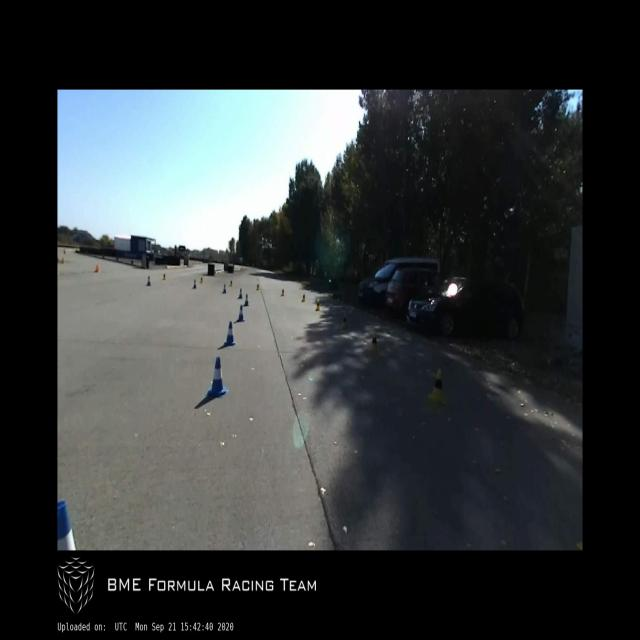blue_cone: (57, 501, 77, 551), (207, 357, 227, 398), (224, 321, 235, 346), (237, 305, 245, 322), (244, 294, 249, 306), (238, 289, 242, 299), (146, 276, 150, 286), (222, 284, 226, 293), (193, 280, 196, 288), (162, 274, 165, 280)
unknown_cone: (95, 265, 99, 273)
yellow_cone: (428, 370, 444, 404), (371, 333, 378, 352), (343, 314, 347, 327), (316, 300, 320, 311), (302, 294, 305, 302), (256, 284, 259, 291), (281, 290, 284, 296), (230, 280, 232, 287), (200, 277, 202, 284)
